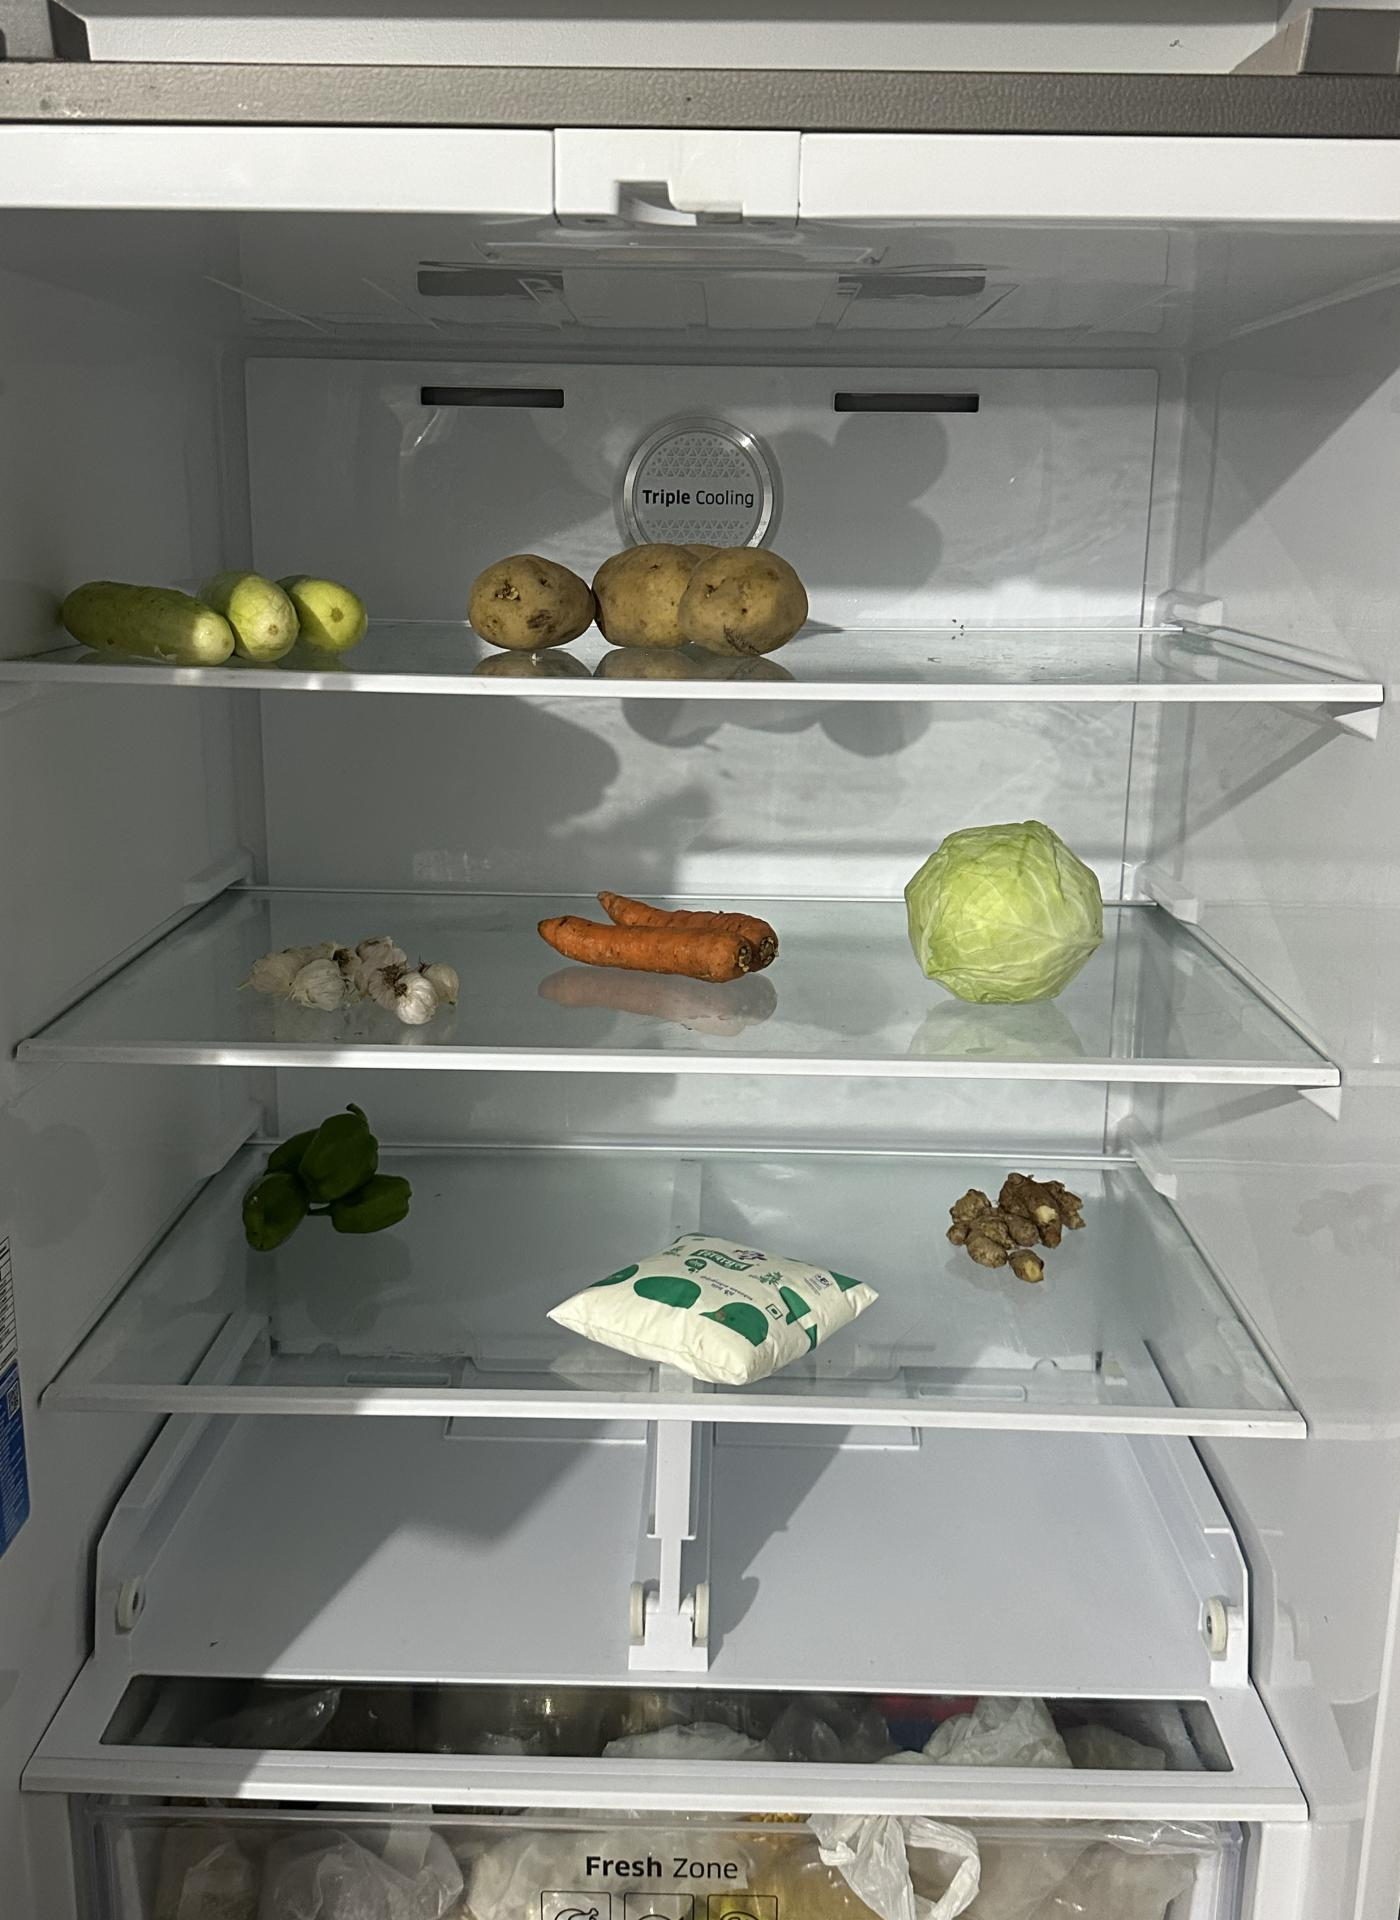cabbage: (909, 818, 1109, 1009)
capsicum: (242, 1112, 413, 1252)
carrots: (540, 884, 784, 973)
cucumber: (58, 571, 371, 671)
garlic: (246, 930, 468, 1023)
ginger: (945, 1172, 1087, 1279)
milk: (556, 1233, 887, 1389)
potato: (465, 544, 813, 656)
